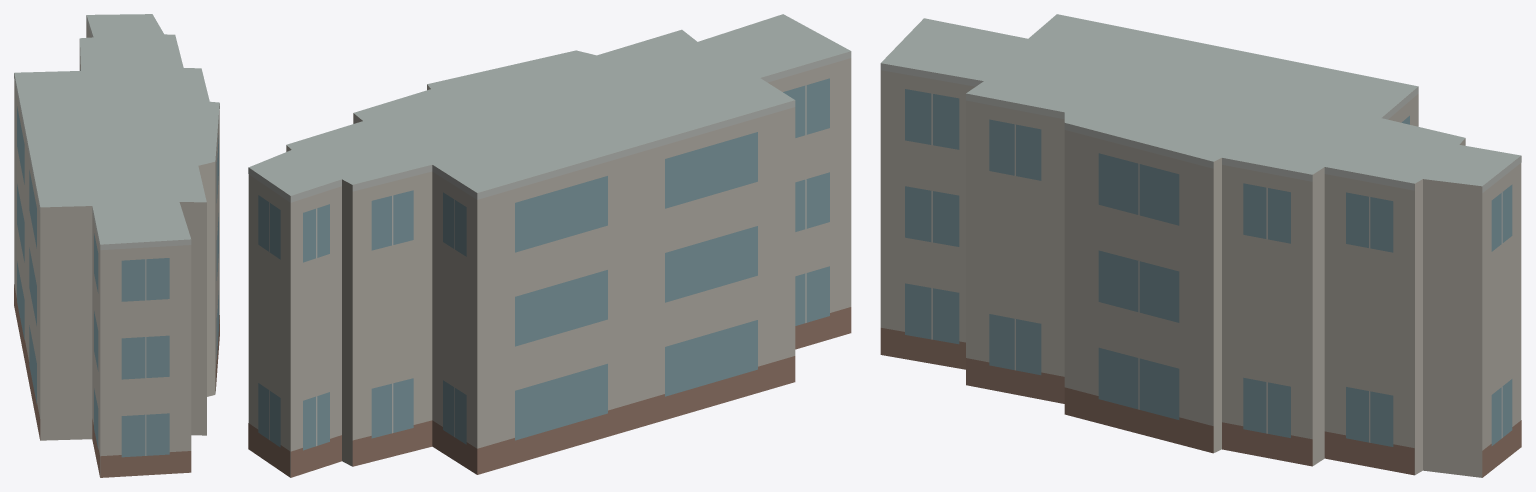
Rendered from survey-upis-32651626.glb.
3 renders of one model, left to right at view 1: azimuth 30°, elevation 25°; view 2: azimuth 150°, elevation 25°; view 3: azimuth 270°, elevation 25°, orthographic. The views are drawn at different scales.
Visible parts, largest first — view 1: survey-upis-32651626.tmp; view 2: survey-upis-32651626.tmp; view 3: survey-upis-32651626.tmp.
Part boxes in pixels (x1,y1,x2,y2): survey-upis-32651626.tmp: (14,14,219,477); survey-upis-32651626.tmp: (248,14,851,477); survey-upis-32651626.tmp: (880,14,1521,477).
Bounding box in the file's own units: 12.8 × 10.1 × 20.12.
